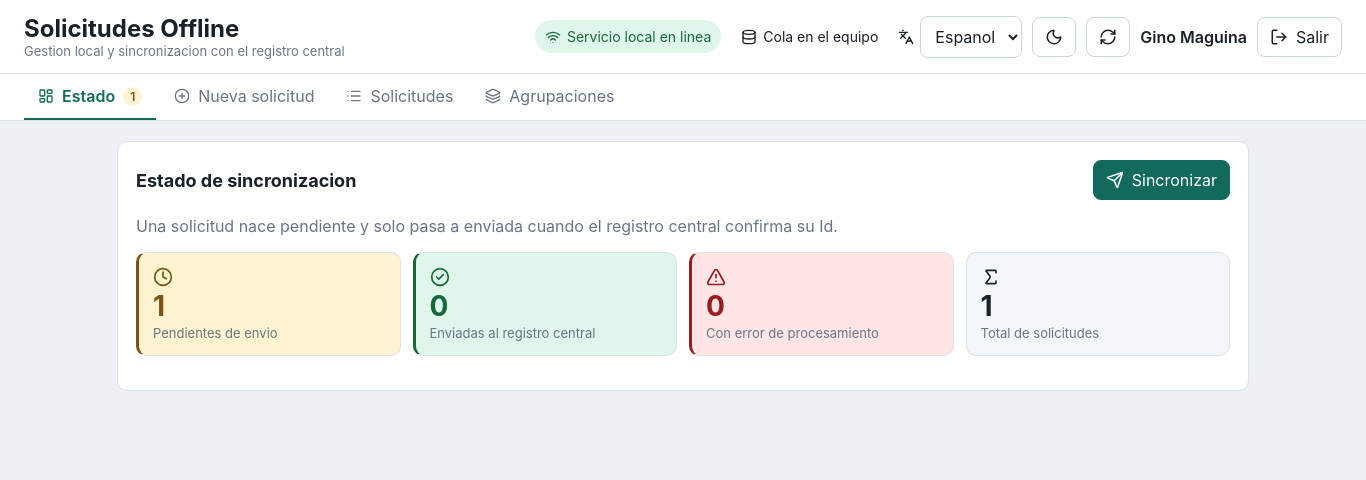
Test: local request workflow › counts what is pending and refreshes the counters after synchronizing
Click the button "Sincronizar" at (1161, 180), box [1093,160,1230,200]
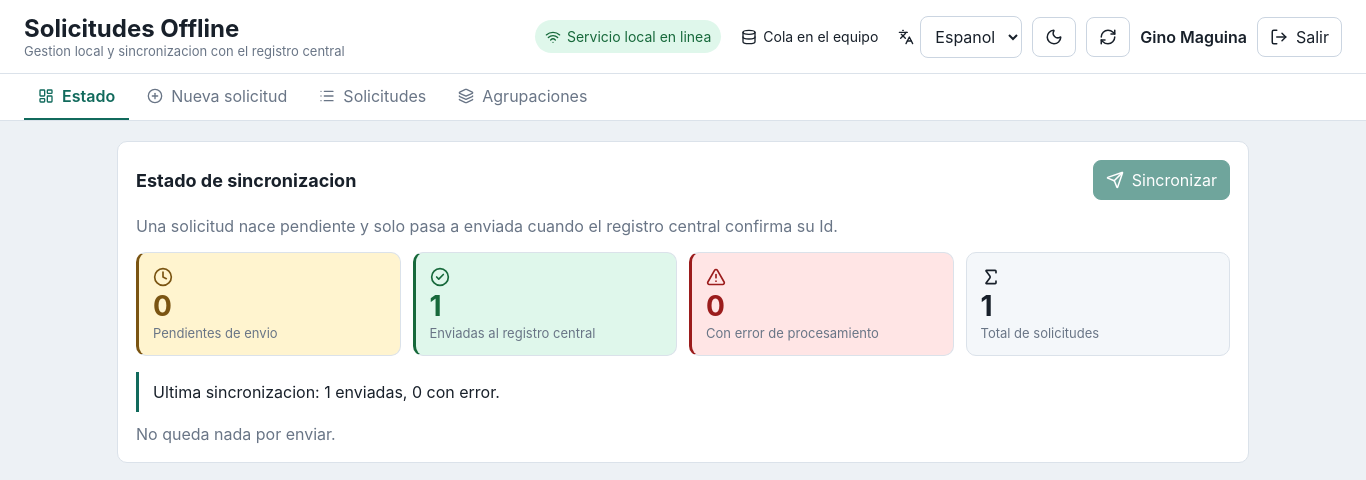
Expected: the text "Ultima sincronizacion: 1 enviadas, 0 con error." is shown, [136,372,1230,412]
Expected: the text "No queda nada por enviar." is shown, [136,424,336,444]
